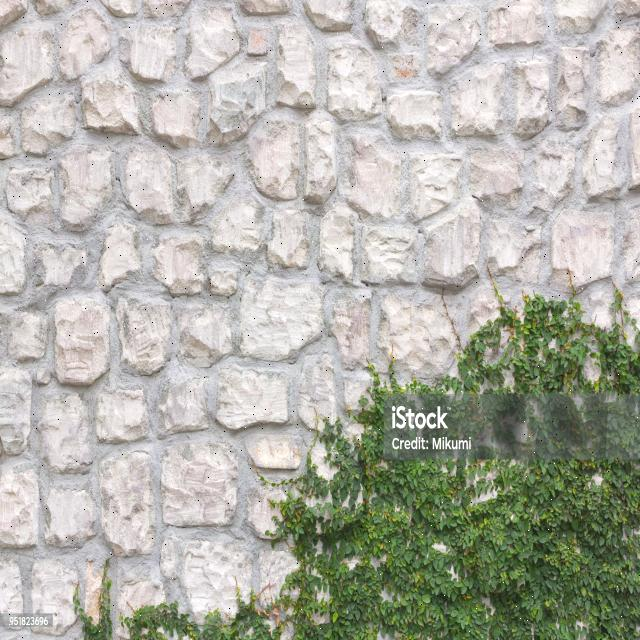dampness: (44, 258, 639, 640)
